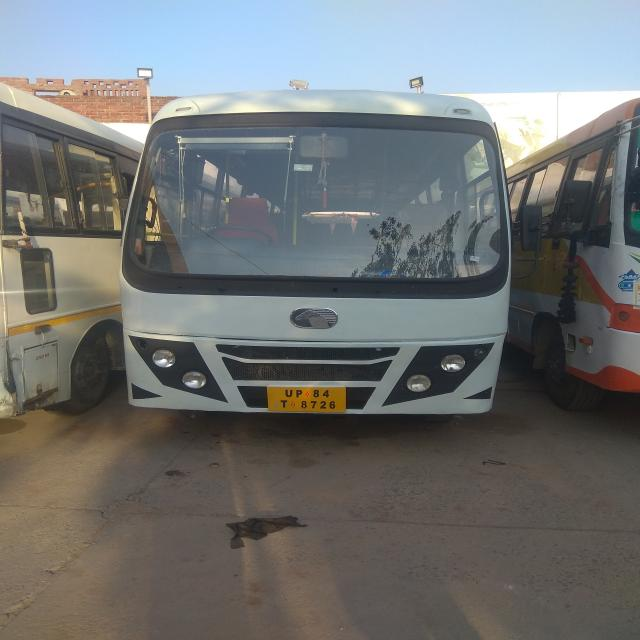Bus: (134, 81, 526, 456)
